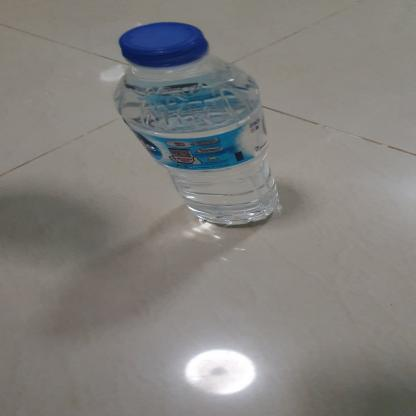bottle: (70, 18, 270, 243)
